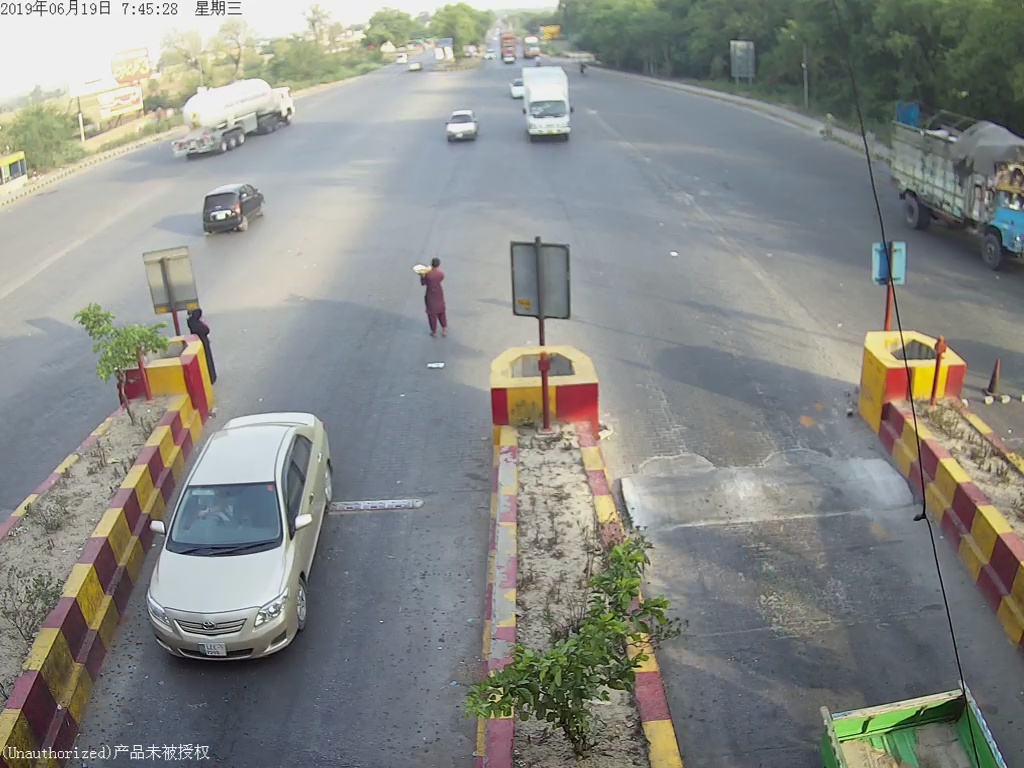Cat-1: (156, 407, 339, 673), (446, 112, 478, 146)
